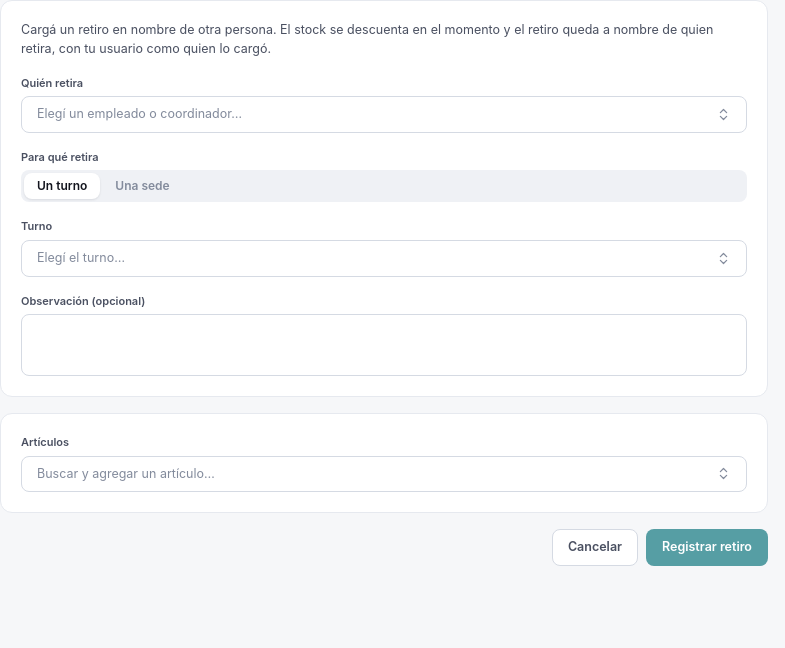
it: WithdrawalOnBehalfScreen: retiro en nombre de (IS-11, IS-12) › pide persona, turno y artículos antes de mandar
Click the button "Registrar retiro". click: (707, 548)
box: [646,529,768,566]
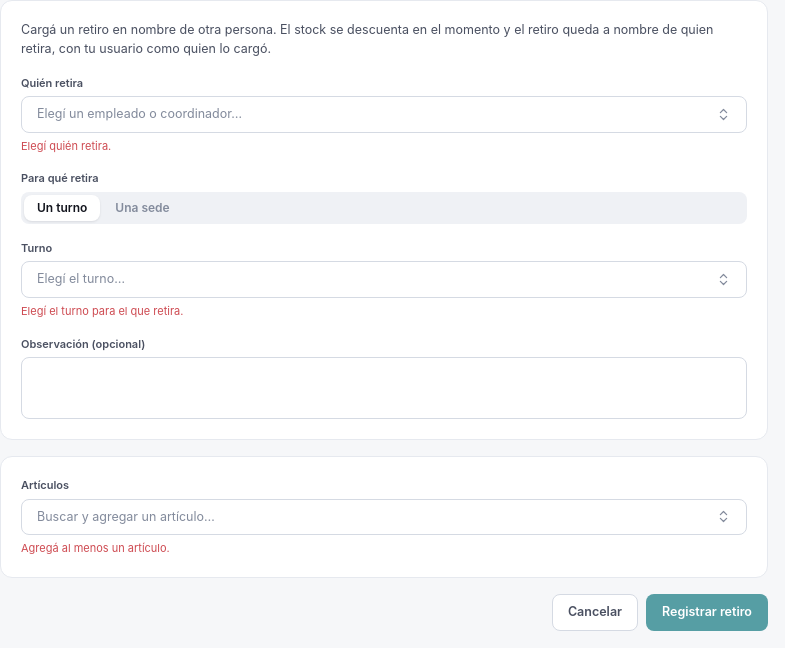
Check: the text "Elegí quién retira." is shown, box [21,139,111,153]
Check: the text "Elegí el turno para el que retira." is shown, box [21,304,184,318]
Check: the text "Agregá al menos un artículo." is shown, box [21,541,170,555]
